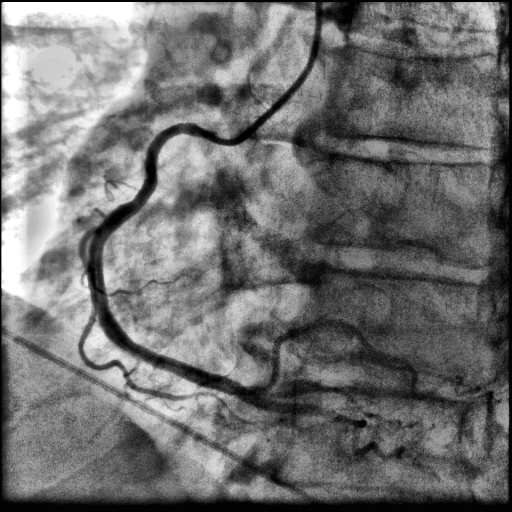pborca: (249, 320, 458, 400)
pda: (252, 393, 406, 460)
rca: (88, 123, 264, 404)
